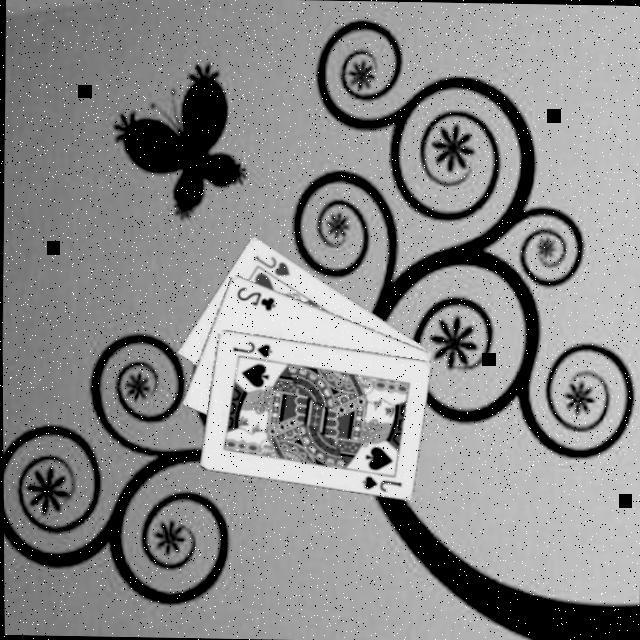2C: (233, 282, 280, 313)
JH: (251, 251, 293, 278)
JS: (230, 336, 276, 360), (360, 471, 404, 494)
